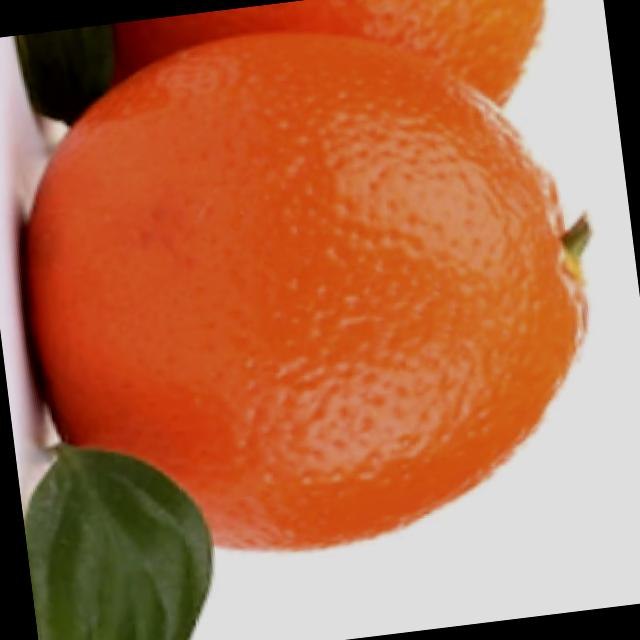orange: (0, 0, 636, 607)
